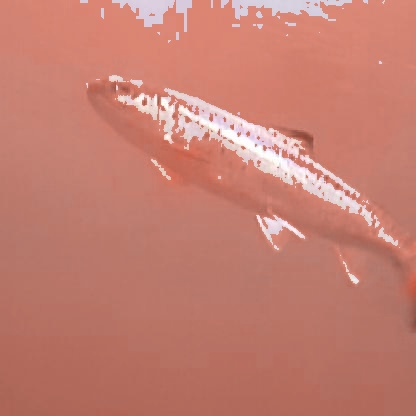salmon: (80, 66, 414, 291)
